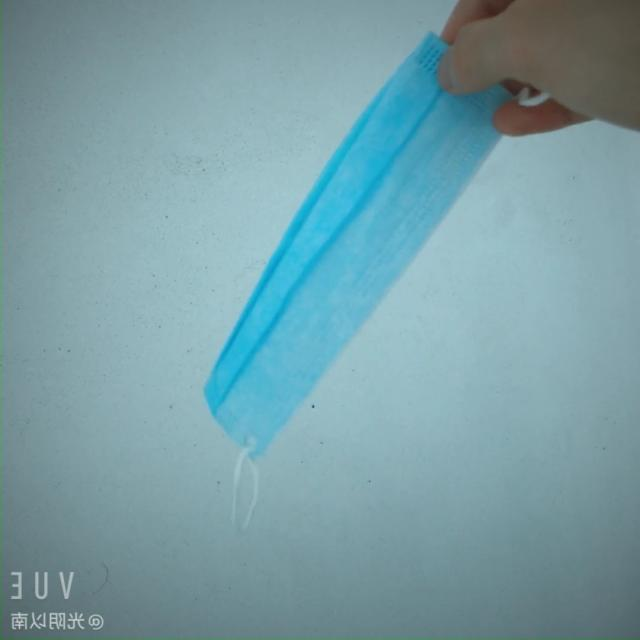face mask: (170, 17, 529, 467)
